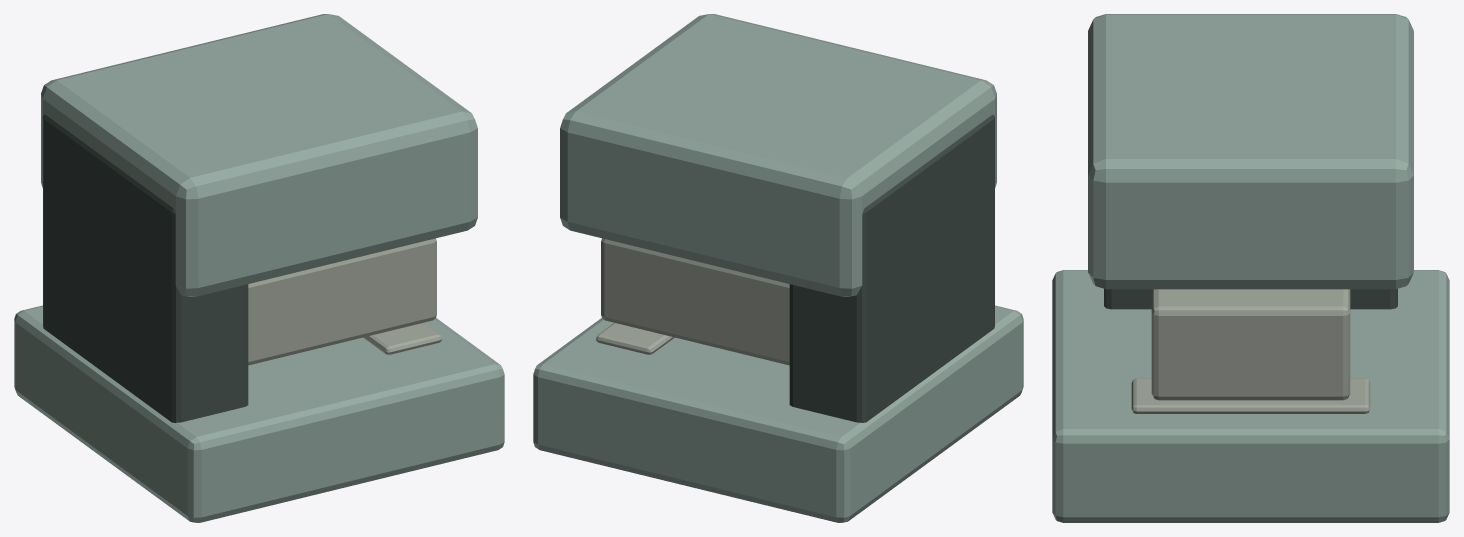
File: office-stapler.glb
3 views of the same model, side by side, from view 1: azimuth 30°, elevation 25°; view 2: azimuth 150°, elevation 25°; view 3: azimuth 270°, elevation 25° (orthographic). The views are drawn at different scales.
Visible parts, largest first — view 1: office sage.005, office ink.005, office metal.005; view 2: office sage.005, office ink.005, office metal.005; view 3: office sage.005, office metal.005, office ink.005.
Boxes of the visible parts, left/top/right/bottom form: office sage.005: left=14, top=14, right=504, bottom=522; office ink.005: left=43, top=114, right=248, bottom=422; office metal.005: left=248, top=238, right=441, bottom=365; office sage.005: left=533, top=14, right=1023, bottom=522; office ink.005: left=789, top=114, right=994, bottom=422; office metal.005: left=596, top=238, right=789, bottom=365; office sage.005: left=1052, top=14, right=1449, bottom=522; office metal.005: left=1131, top=289, right=1370, bottom=413; office ink.005: left=1104, top=289, right=1397, bottom=309.
Size of the model in its own units: 1 by 0.99 by 1.
